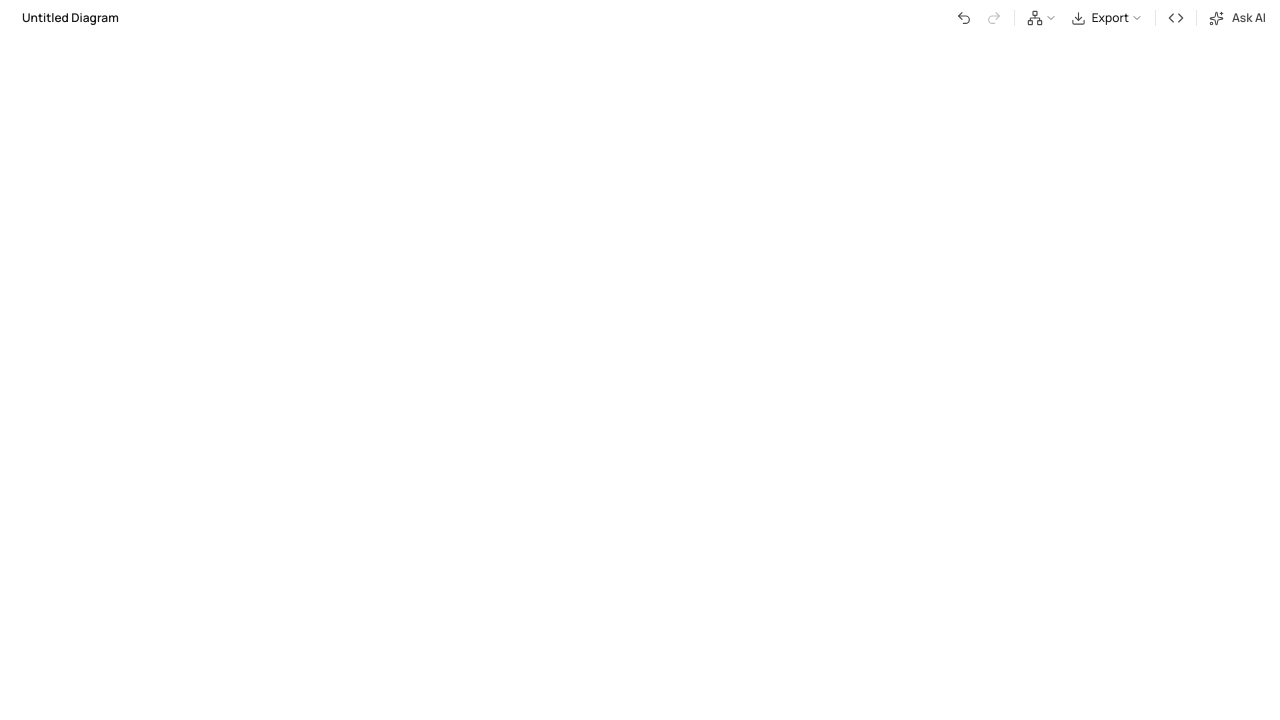
Test: Export ▾ (T17) › Copy as Markdown: puts Markdown containing a Mermaid block on the clipboard (#192)
Click the button "Export": (1107, 18) [1065, 4, 1149, 32]
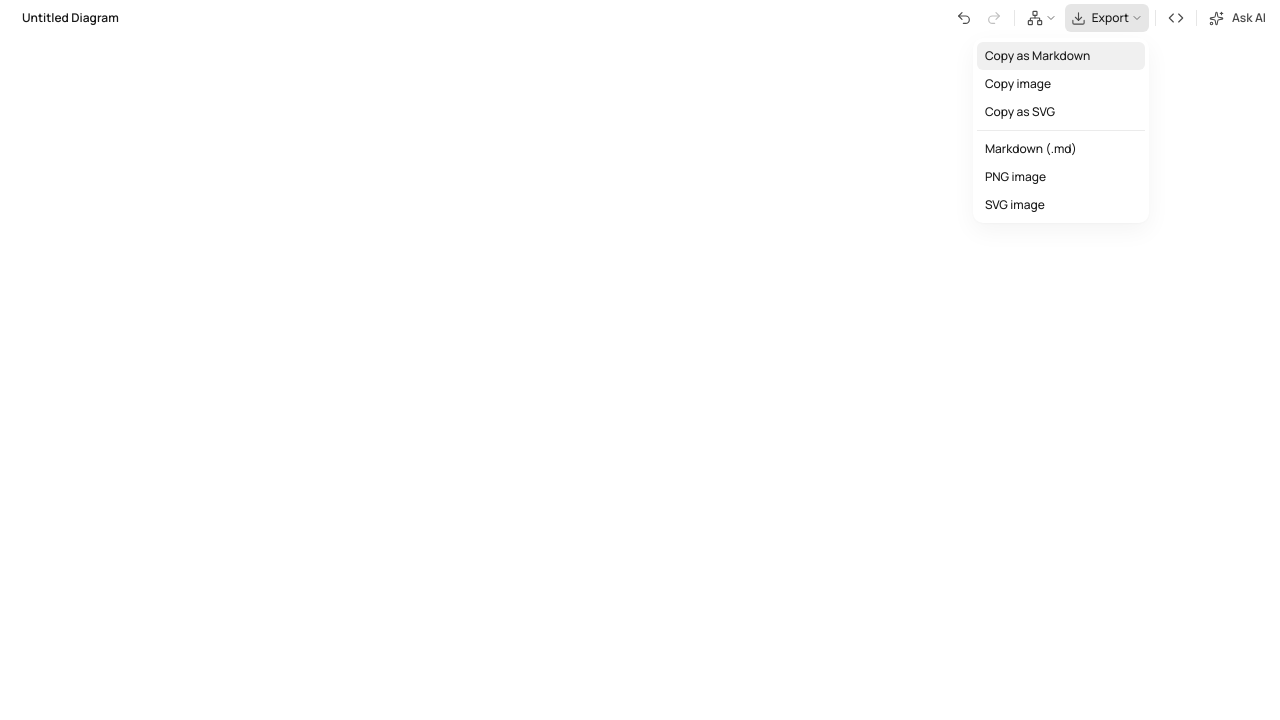
Click the menu item "Copy as Markdown": (1061, 56) [977, 42, 1145, 70]
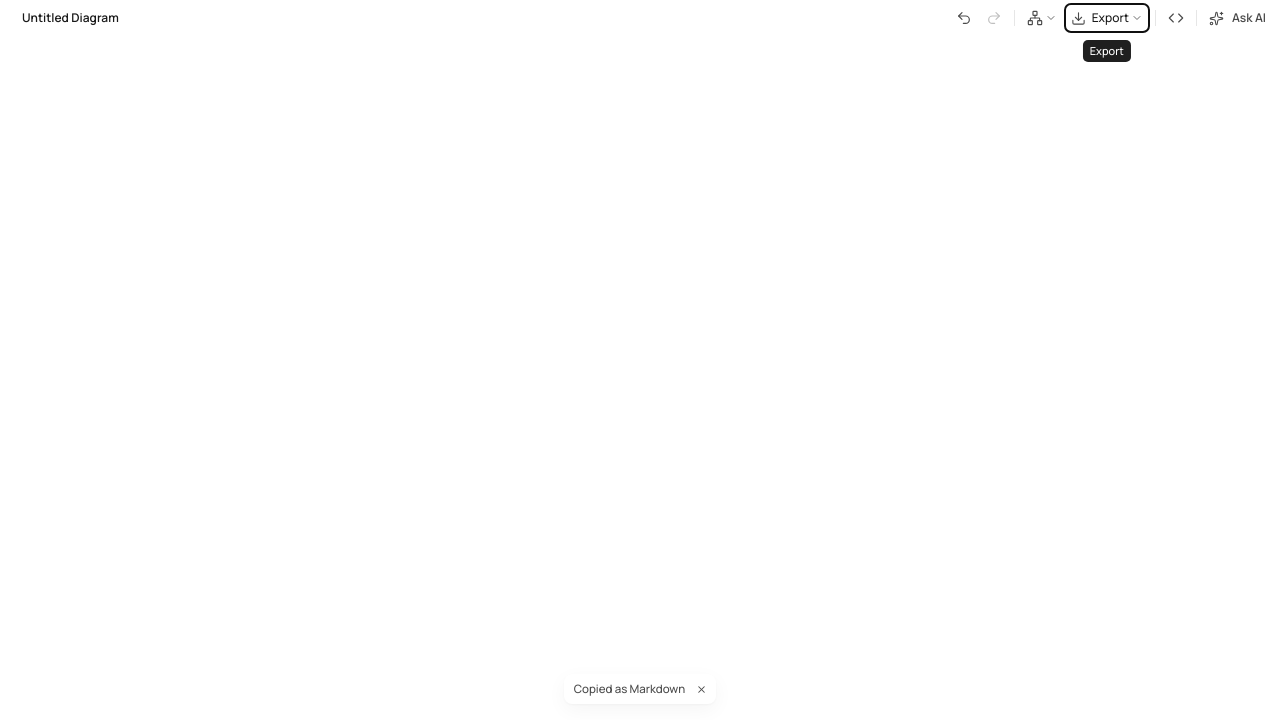
Now the text "Copied as Markdown" is shown, box [574, 681, 685, 697]
Now the menu is gone
